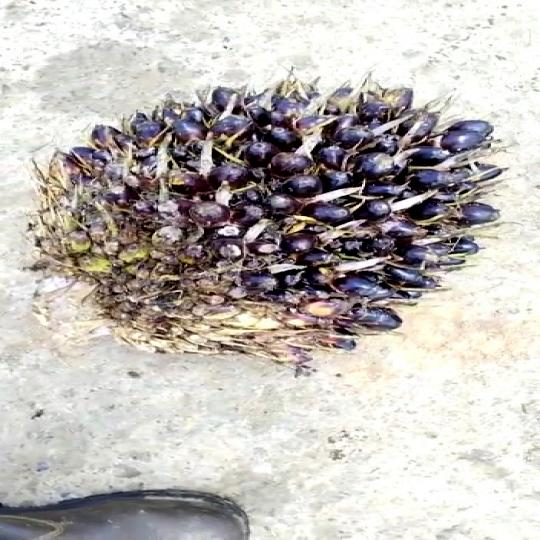mentah: (26, 68, 534, 372)
